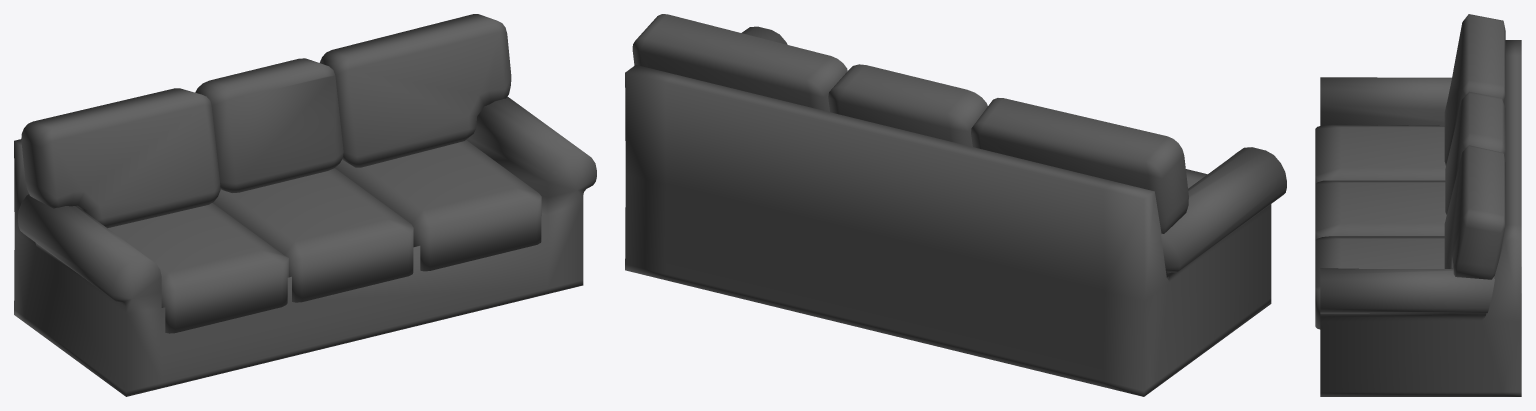
File: sofa_small.glb
3 views of the same model, side by side, from view 1: azimuth 30°, elevation 25°; view 2: azimuth 150°, elevation 25°; view 3: azimuth 270°, elevation 25° (orthographic). The views are drawn at different scales.
Parts seen in each view (by area): view 1: node_Couch_9592.001_details_0; view 2: node_Couch_9592.001_details_0; view 3: node_Couch_9592.001_details_0.
Part boxes in pixels (box(x1,y1,x2,y2)): node_Couch_9592.001_details_0: box(14, 14, 596, 396); node_Couch_9592.001_details_0: box(625, 14, 1286, 396); node_Couch_9592.001_details_0: box(1315, 14, 1521, 396).
Bounding box in the file's own units: 2.12 × 0.8612 × 0.8713.
Materials: 1 (1 with a texture image).
